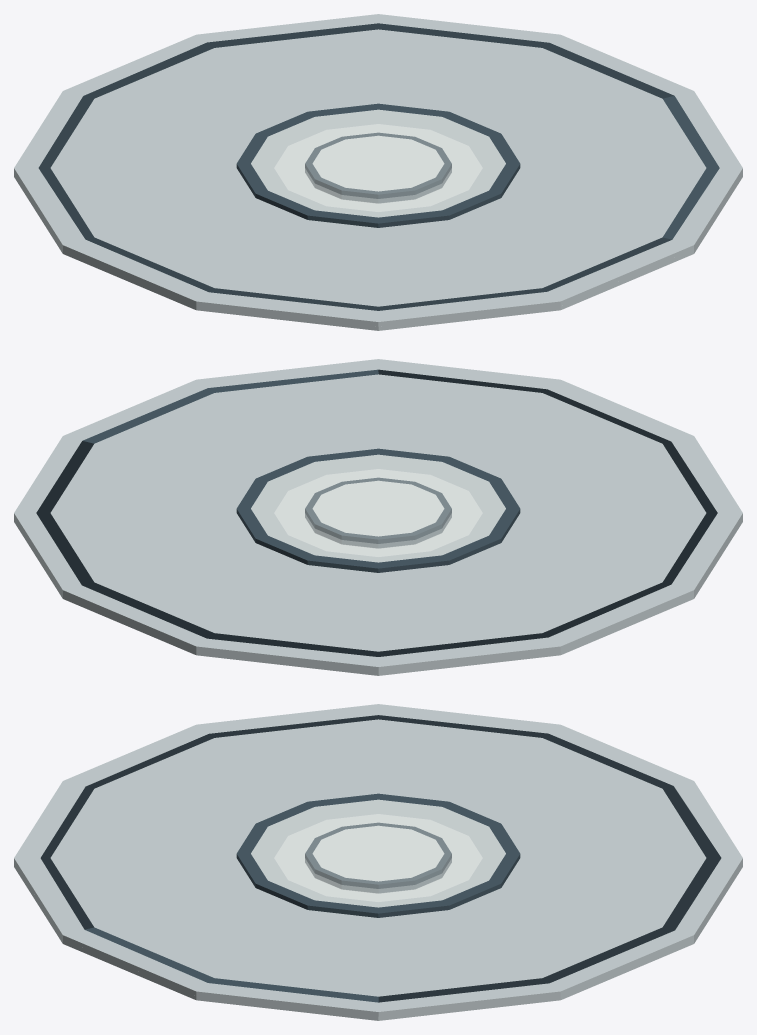
3 renders of one model, top to bottom at view 1: azimuth 30°, elevation 25°; view 2: azimuth 150°, elevation 25°; view 3: azimuth 270°, elevation 25°, orthographic.
Parts seen in each view (by area): view 1: Node; view 2: Node; view 3: Node.
Boxes of the visible parts, x1,y1,x2,y2 form: Node: [14, 14, 742, 330]; Node: [14, 359, 742, 675]; Node: [14, 704, 742, 1020].
Size of the model in its own units: 1.49 by 0.04 by 1.49.
